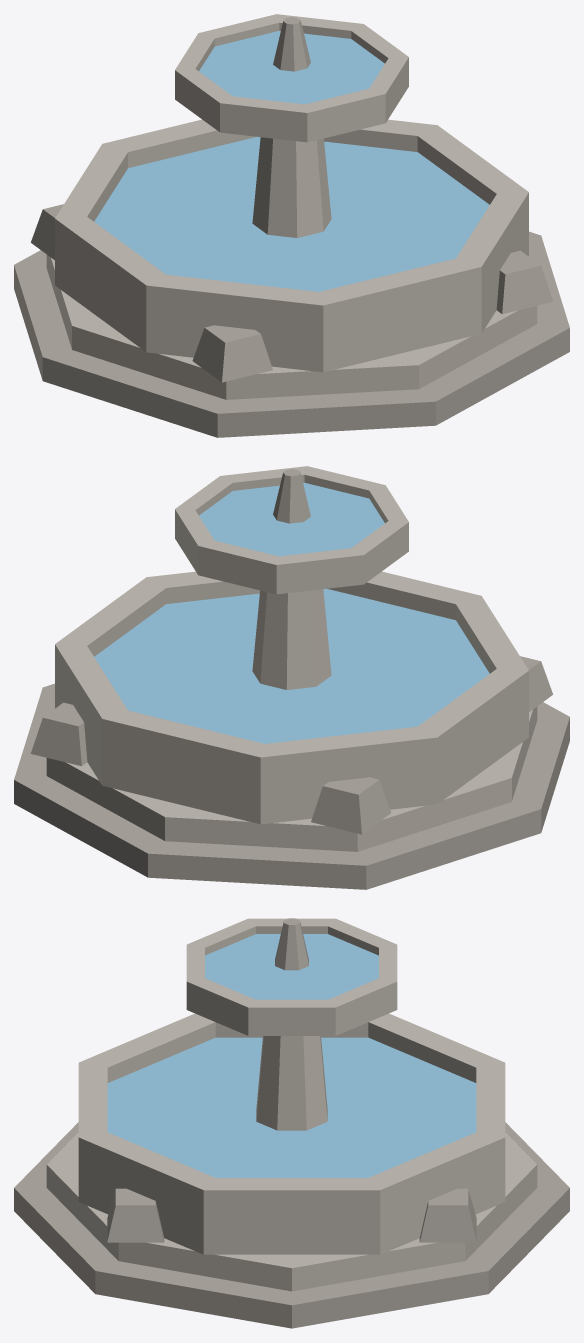
Rendered from fountain.glb.
3 views of the same model, one above another, from view 1: azimuth 30°, elevation 25°; view 2: azimuth 150°, elevation 25°; view 3: azimuth 270°, elevation 25° (orthographic). The views are drawn at different scales.
Parts seen in each view (by area): view 1: FountainBasin, FountainWaterLower, FountainPlinthLower, FountainPlinthUpper, FountainUpperBowl, FountainWaterUpper, FountainColumn, FountainCornerBlock2, FountainCornerBlock3, FountainFinial, FountainCornerBlock1; view 2: FountainBasin, FountainWaterLower, FountainPlinthLower, FountainPlinthUpper, FountainUpperBowl, FountainWaterUpper, FountainColumn, FountainCornerBlock1, FountainCornerBlock0, FountainFinial, FountainCornerBlock2; view 3: FountainBasin, FountainWaterLower, FountainPlinthLower, FountainPlinthUpper, FountainUpperBowl, FountainWaterUpper, FountainColumn, FountainCornerBlock0, FountainCornerBlock3, FountainFinial.
Boxes of the visible parts, x1,y1,x2,y2 form: FountainBasin: [55, 119, 528, 372]; FountainWaterLower: [94, 136, 489, 291]; FountainPlinthLower: [14, 231, 569, 437]; FountainPlinthUpper: [46, 254, 537, 399]; FountainUpperBowl: [175, 14, 408, 142]; FountainWaterUpper: [199, 30, 384, 104]; FountainColumn: [252, 137, 331, 237]; FountainCornerBlock2: [192, 325, 272, 382]; FountainCornerBlock3: [496, 250, 553, 314]; FountainFinial: [273, 17, 310, 71]; FountainCornerBlock1: [31, 204, 63, 259]; FountainBasin: [55, 571, 528, 824]; FountainWaterLower: [94, 588, 489, 743]; FountainPlinthLower: [14, 683, 569, 889]; FountainPlinthUpper: [46, 706, 537, 851]; FountainUpperBowl: [175, 466, 408, 594]; FountainWaterUpper: [199, 482, 384, 556]; FountainColumn: [252, 589, 331, 689]; FountainCornerBlock1: [311, 777, 391, 834]; FountainCornerBlock0: [30, 702, 87, 766]; FountainFinial: [273, 469, 310, 523]; FountainCornerBlock2: [520, 656, 552, 711]; FountainBasin: [78, 1013, 505, 1254]; FountainWaterLower: [107, 1037, 476, 1177]; FountainPlinthLower: [14, 1122, 569, 1328]; FountainPlinthUpper: [46, 1132, 537, 1291]; FountainUpperBowl: [186, 918, 397, 1035]; FountainWaterUpper: [205, 934, 378, 999]; FountainColumn: [256, 1036, 327, 1130]; FountainCornerBlock0: [419, 1188, 476, 1242]; FountainCornerBlock3: [107, 1188, 164, 1242]; FountainFinial: [275, 918, 308, 970].
Bounding box in the file's own units: 3.9 × 2.24 × 3.9.
